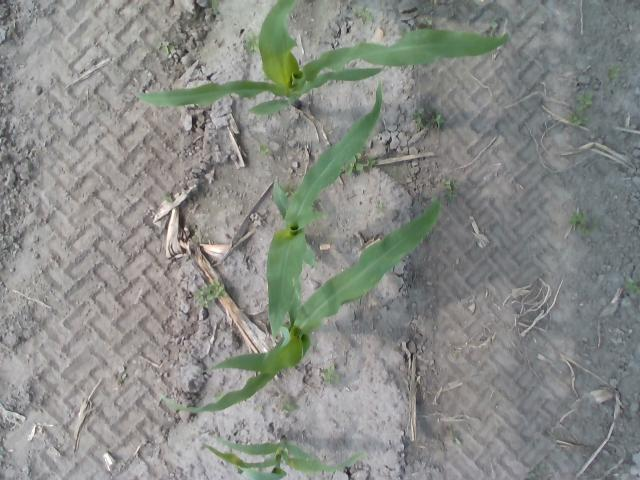Maize: (161, 197, 443, 413), (137, 0, 510, 118), (267, 84, 383, 340), (203, 433, 364, 480)
Weeds: (567, 91, 594, 127), (194, 279, 226, 308), (342, 144, 366, 174), (568, 210, 590, 235), (442, 177, 460, 200), (426, 108, 444, 130), (244, 31, 260, 54), (322, 364, 339, 385), (354, 6, 374, 22), (412, 106, 426, 128), (606, 62, 620, 83), (280, 396, 296, 413), (624, 278, 640, 294), (156, 42, 174, 55), (280, 184, 294, 196), (258, 143, 270, 155), (213, 392, 226, 402), (366, 157, 376, 170), (376, 200, 384, 214), (592, 218, 601, 230), (486, 20, 498, 29), (420, 17, 433, 25), (164, 194, 172, 202), (454, 436, 461, 444), (402, 28, 409, 36), (256, 403, 264, 408)
